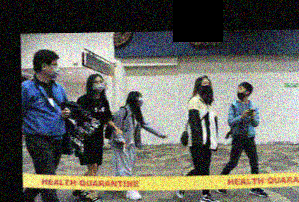mask_weared_incorrect: (236, 86, 247, 100)
with_mask: (44, 59, 59, 80), (91, 78, 105, 94), (200, 80, 212, 95), (136, 94, 144, 109)
